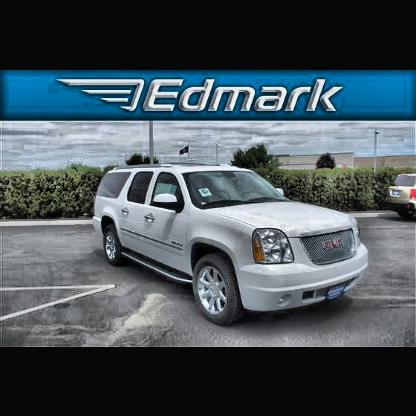GMC Yukon Hybrid SUV 2012: (94, 166, 371, 328)
